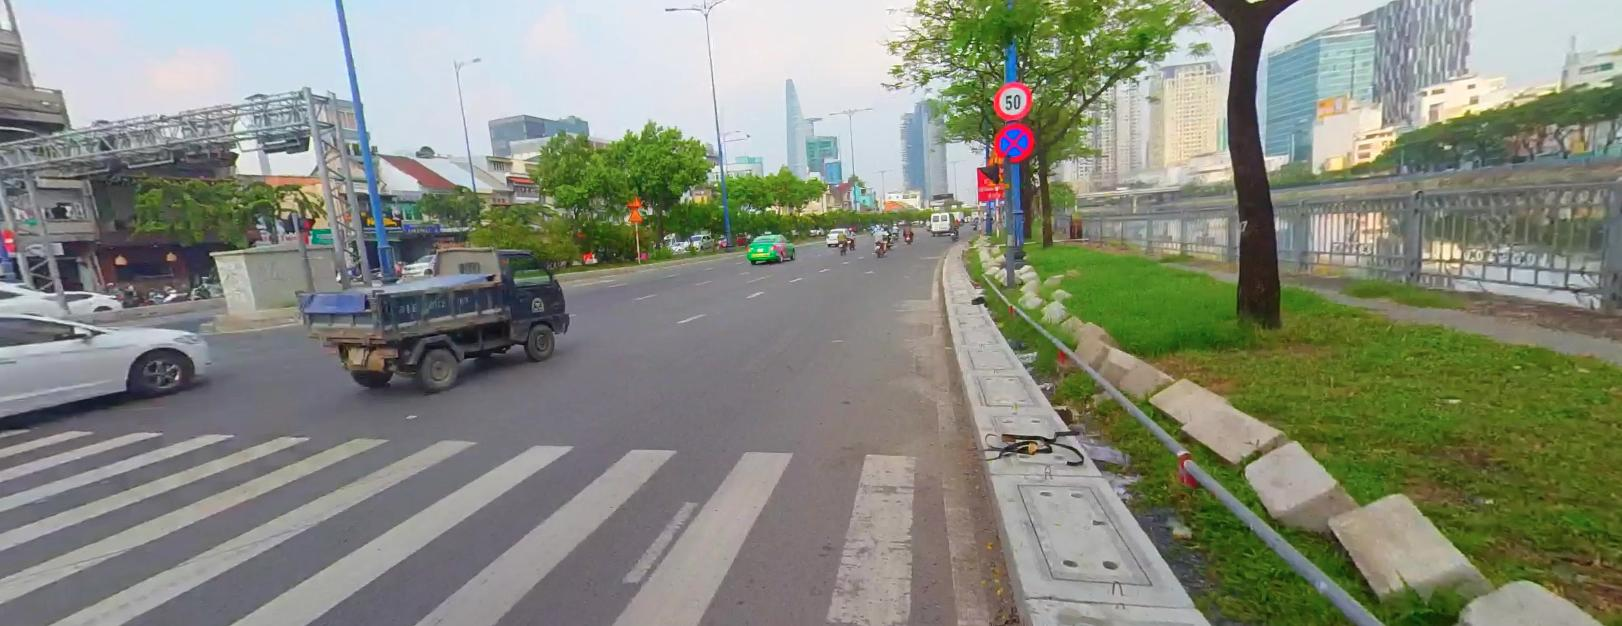Cam dung va do: (995, 122, 1033, 159)
Gioi han toc do: (993, 81, 1031, 120)
Nguy hiem: (628, 207, 643, 220), (626, 192, 641, 205)
